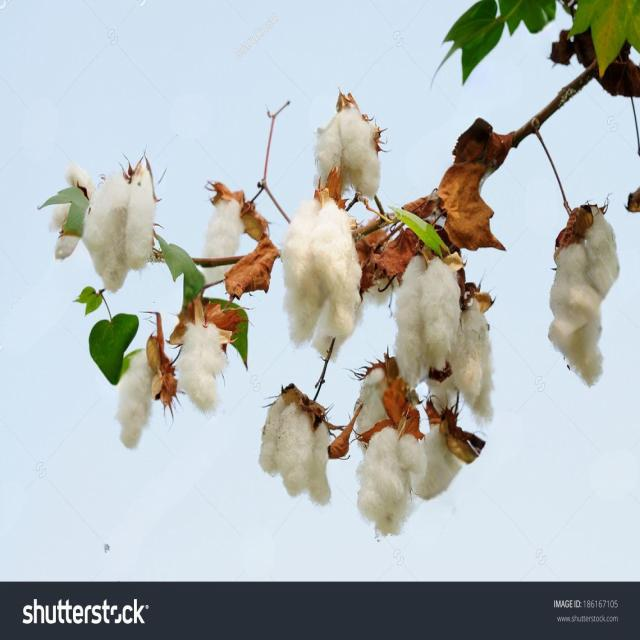Leaf: (528, 193, 635, 389), (274, 191, 376, 370), (41, 153, 157, 297), (249, 367, 339, 524), (388, 239, 470, 403), (160, 288, 254, 430), (432, 278, 503, 444), (306, 90, 397, 219), (345, 342, 436, 457), (346, 422, 428, 546), (107, 332, 177, 463), (194, 192, 277, 300)
